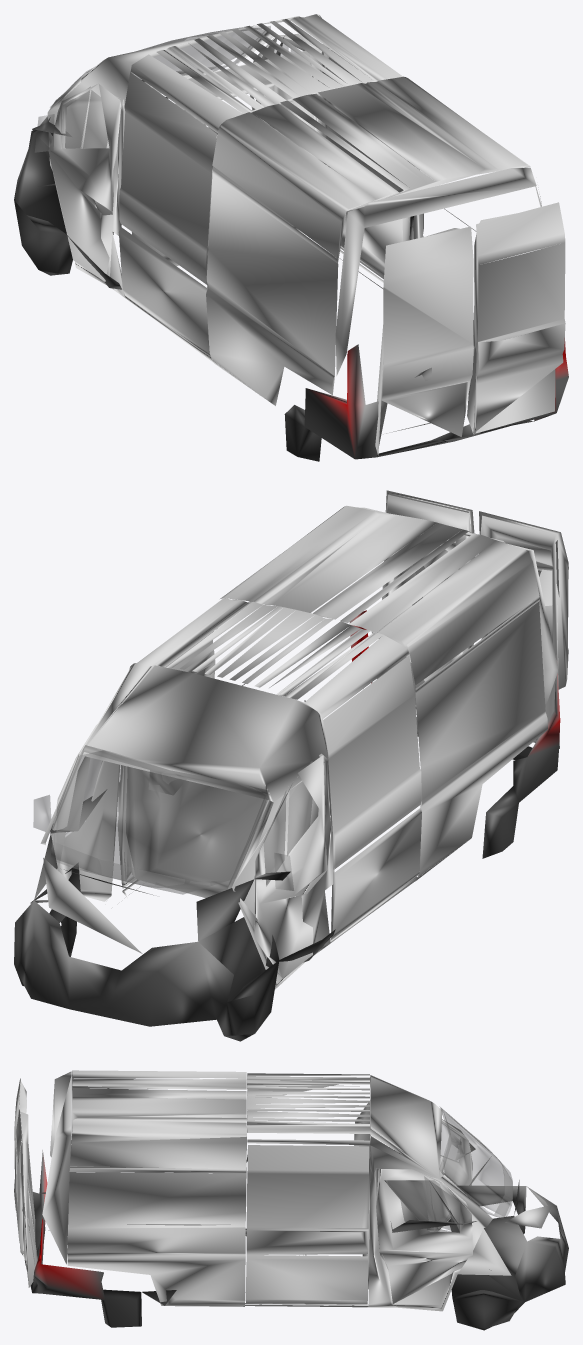
The model's file is promaster-mid.glb.
The picture shows the model from 3 angles, top to bottom: view 1: azimuth 30°, elevation 25°; view 2: azimuth 150°, elevation 25°; view 3: azimuth 270°, elevation 25°; orthographic projection. The views are drawn at different scales.
Parts seen in each view (by area): view 1: body, trim, glass; view 2: body, trim, glass; view 3: body, trim, glass.
Part boxes in pixels (x1,y1,x2,y2): body: (47, 14, 565, 455); trim: (14, 36, 568, 461); glass: (35, 26, 295, 152); body: (40, 490, 568, 989); trim: (14, 610, 560, 1041); glass: (33, 745, 312, 894); body: (14, 1070, 552, 1311); trim: (14, 1143, 568, 1330); glass: (387, 1106, 512, 1233).
Size of the model in its own units: 2.44 by 2.54 by 6.35.
